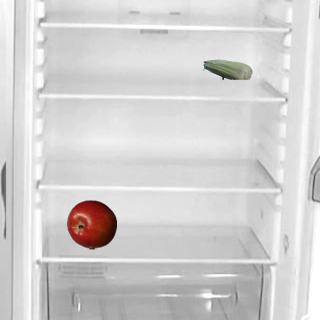Apple Braeburn: (66, 199, 116, 249)
Corn Husk: (202, 44, 252, 94)
